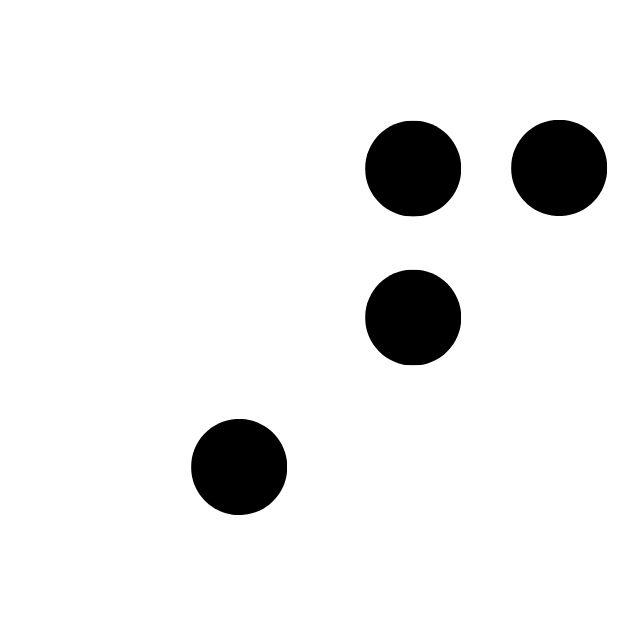F: (367, 122, 608, 521)
capital: (48, 117, 289, 516)
